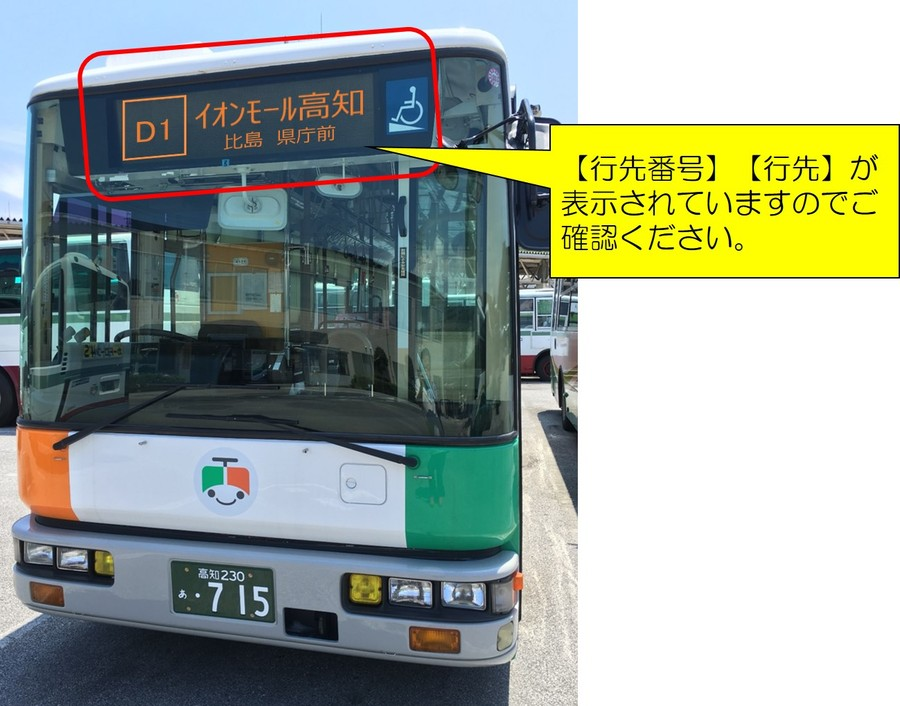destination: (105, 69, 376, 174)
